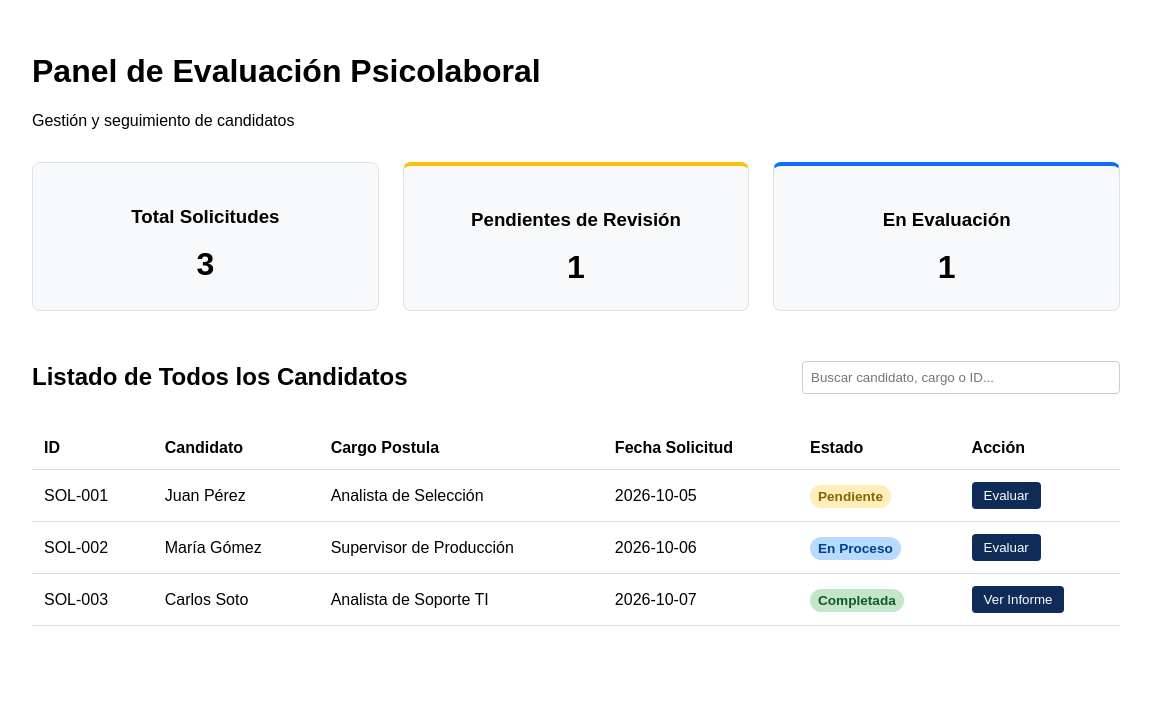
Dashboard › sin coincidencias muestra un mensaje
The image size is (1152, 720).
In the field with placeholder "Buscar candidato, cargo o ID...": {"x": 961, "y": 377} [802, 361, 1120, 394], type "zzzz"
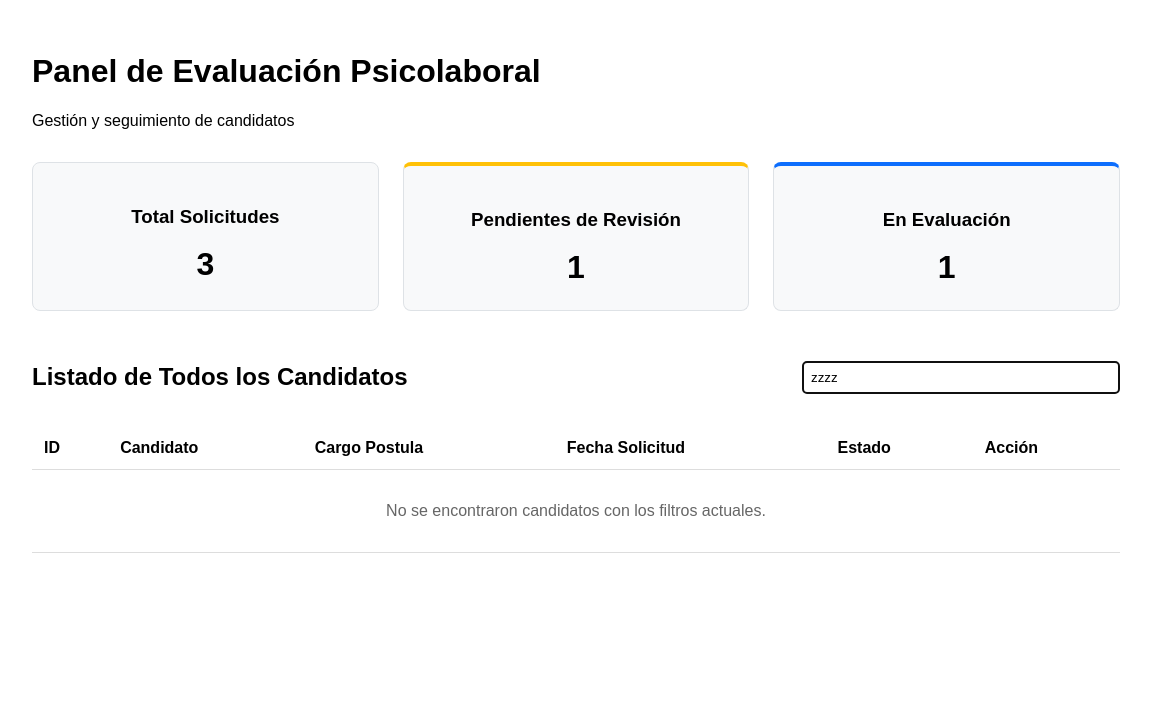
Now the text "No se encontraron candidatos con los filtros actuales." is shown, box [32, 470, 1120, 553]
